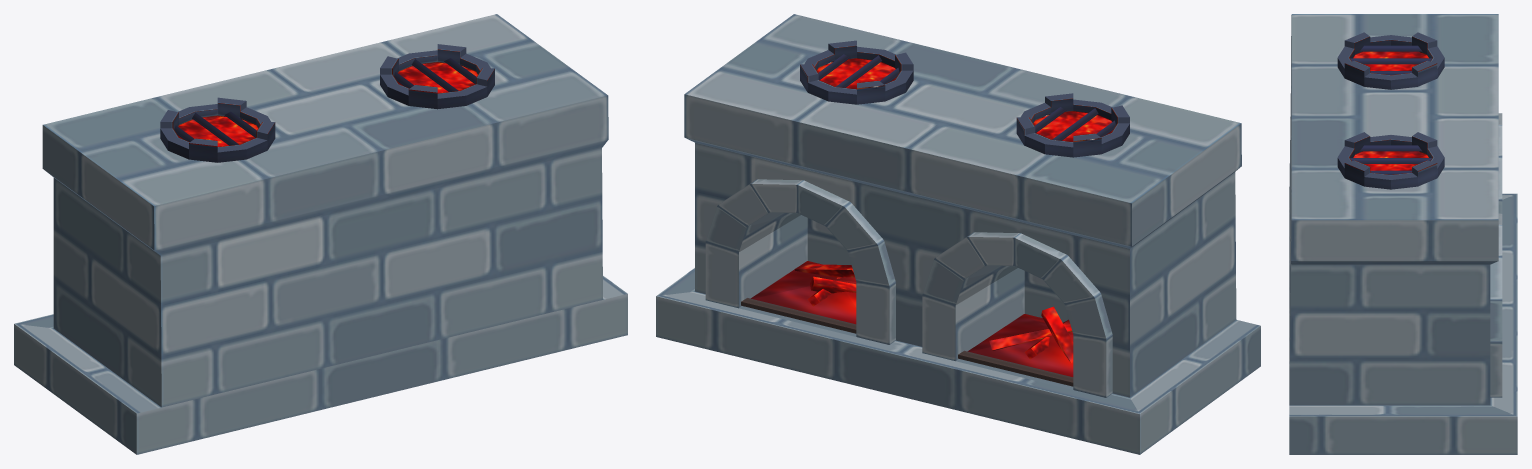
File: KTB0110005.fbx
3 renders of one model, left to right at view 1: azimuth 30°, elevation 25°; view 2: azimuth 150°, elevation 25°; view 3: azimuth 270°, elevation 25°, orthographic. The views are drawn at different scales.
Visible parts, largest first — view 1: smKTB0110005; view 2: smKTB0110005; view 3: smKTB0110005.
Boxes of the visible parts, x1,y1,x2,y2 form: smKTB0110005: (14,14,627,454); smKTB0110005: (656,14,1260,454); smKTB0110005: (1289,14,1517,454).
Size of the model in its own units: 198 by 100 by 85.85.
1 material, 1 textured.
